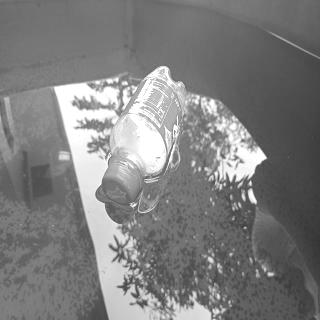bottle: (100, 63, 188, 208)
